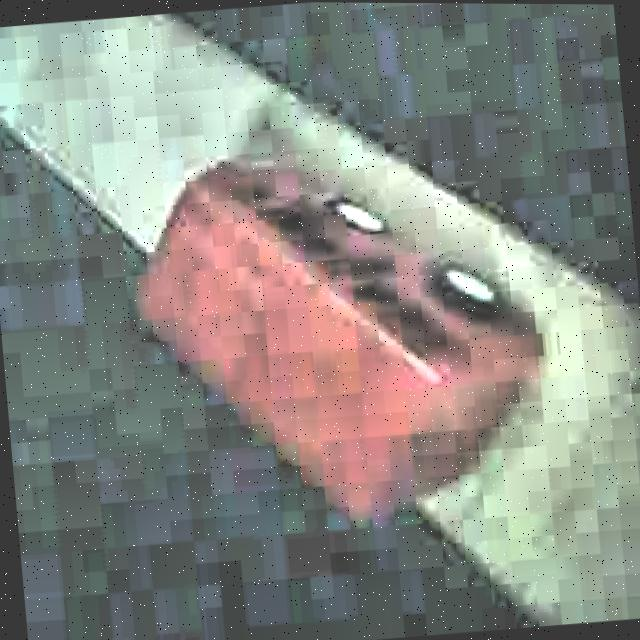bus: (123, 129, 560, 533)
